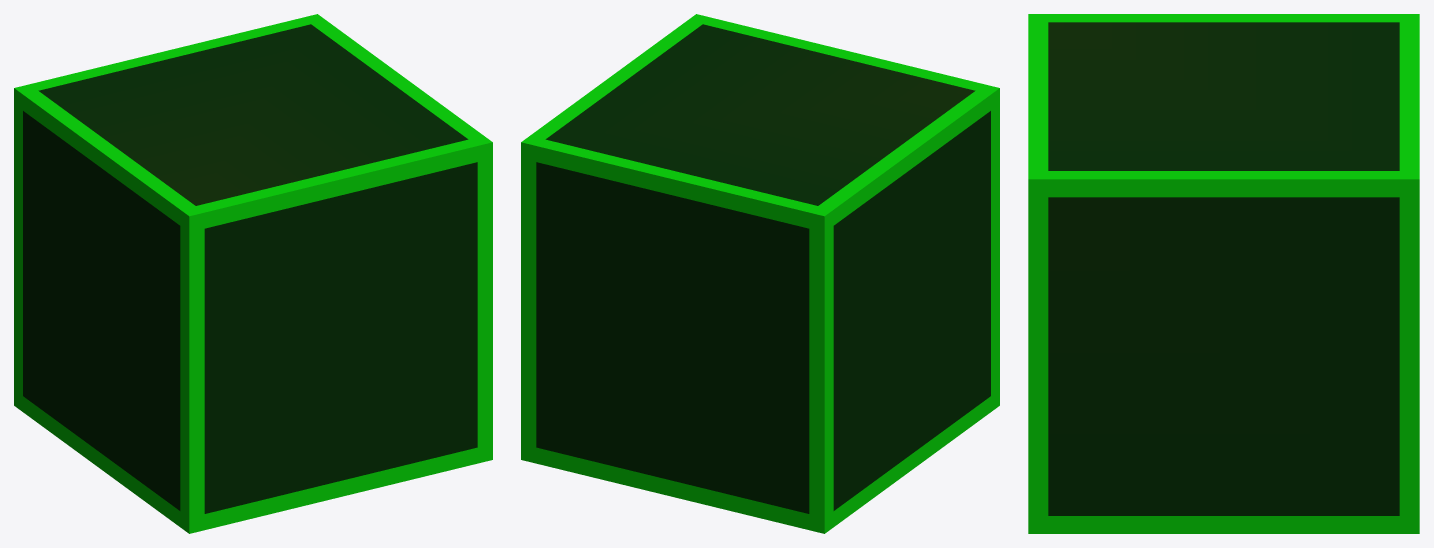
Rendered from test_nourriture.glb.
3 views of the same model, side by side, from view 1: azimuth 30°, elevation 25°; view 2: azimuth 150°, elevation 25°; view 3: azimuth 270°, elevation 25° (orthographic). The views are drawn at different scales.
Parts seen in each view (by area): view 1: test_linemate; view 2: test_linemate; view 3: test_linemate.
Part boxes in pixels (x1,y1,x2,y2): test_linemate: (14,14,492,533); test_linemate: (521,14,999,533); test_linemate: (1028,14,1419,533).
Size of the model in its own units: 0.2 by 0.2 by 0.2.
